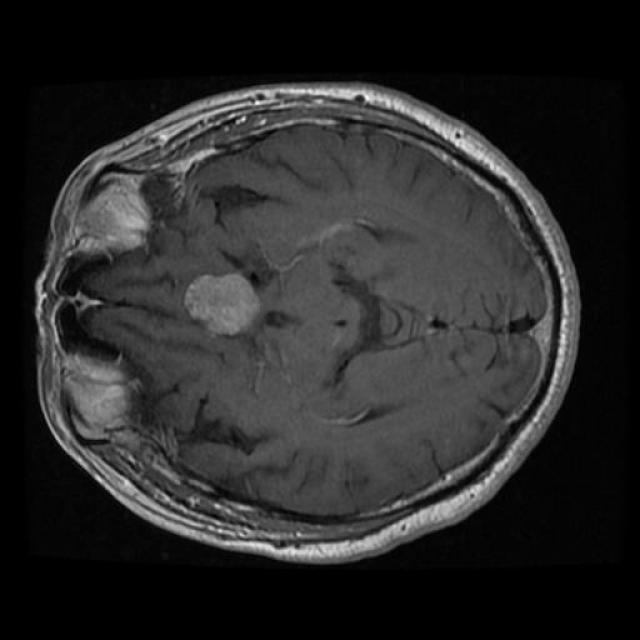Pituitary: (184, 273, 259, 336)
